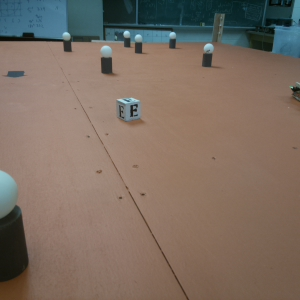blockE: (115, 98, 140, 122)
corner: (211, 12, 225, 44)
obstacle: (1, 170, 35, 284), (99, 47, 115, 77), (201, 43, 213, 70), (62, 32, 73, 54), (169, 32, 180, 51), (134, 34, 144, 54), (123, 31, 133, 49)
side: (289, 82, 300, 99)
start: (4, 69, 28, 84)
